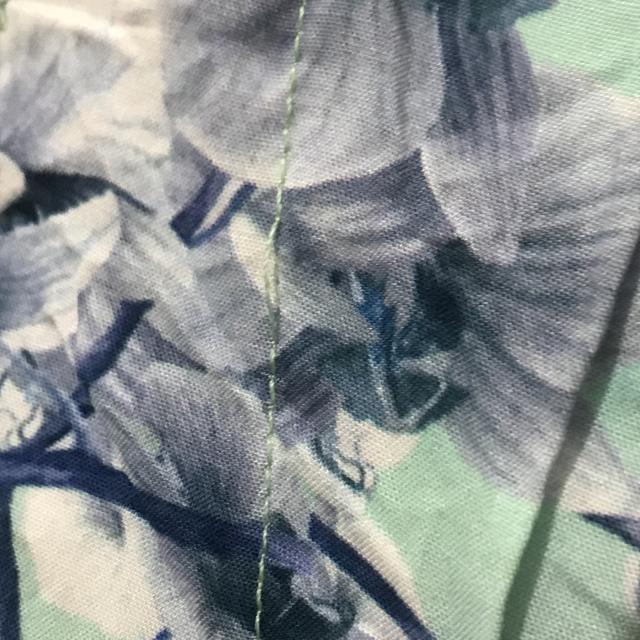skip: (248, 196, 300, 350)
